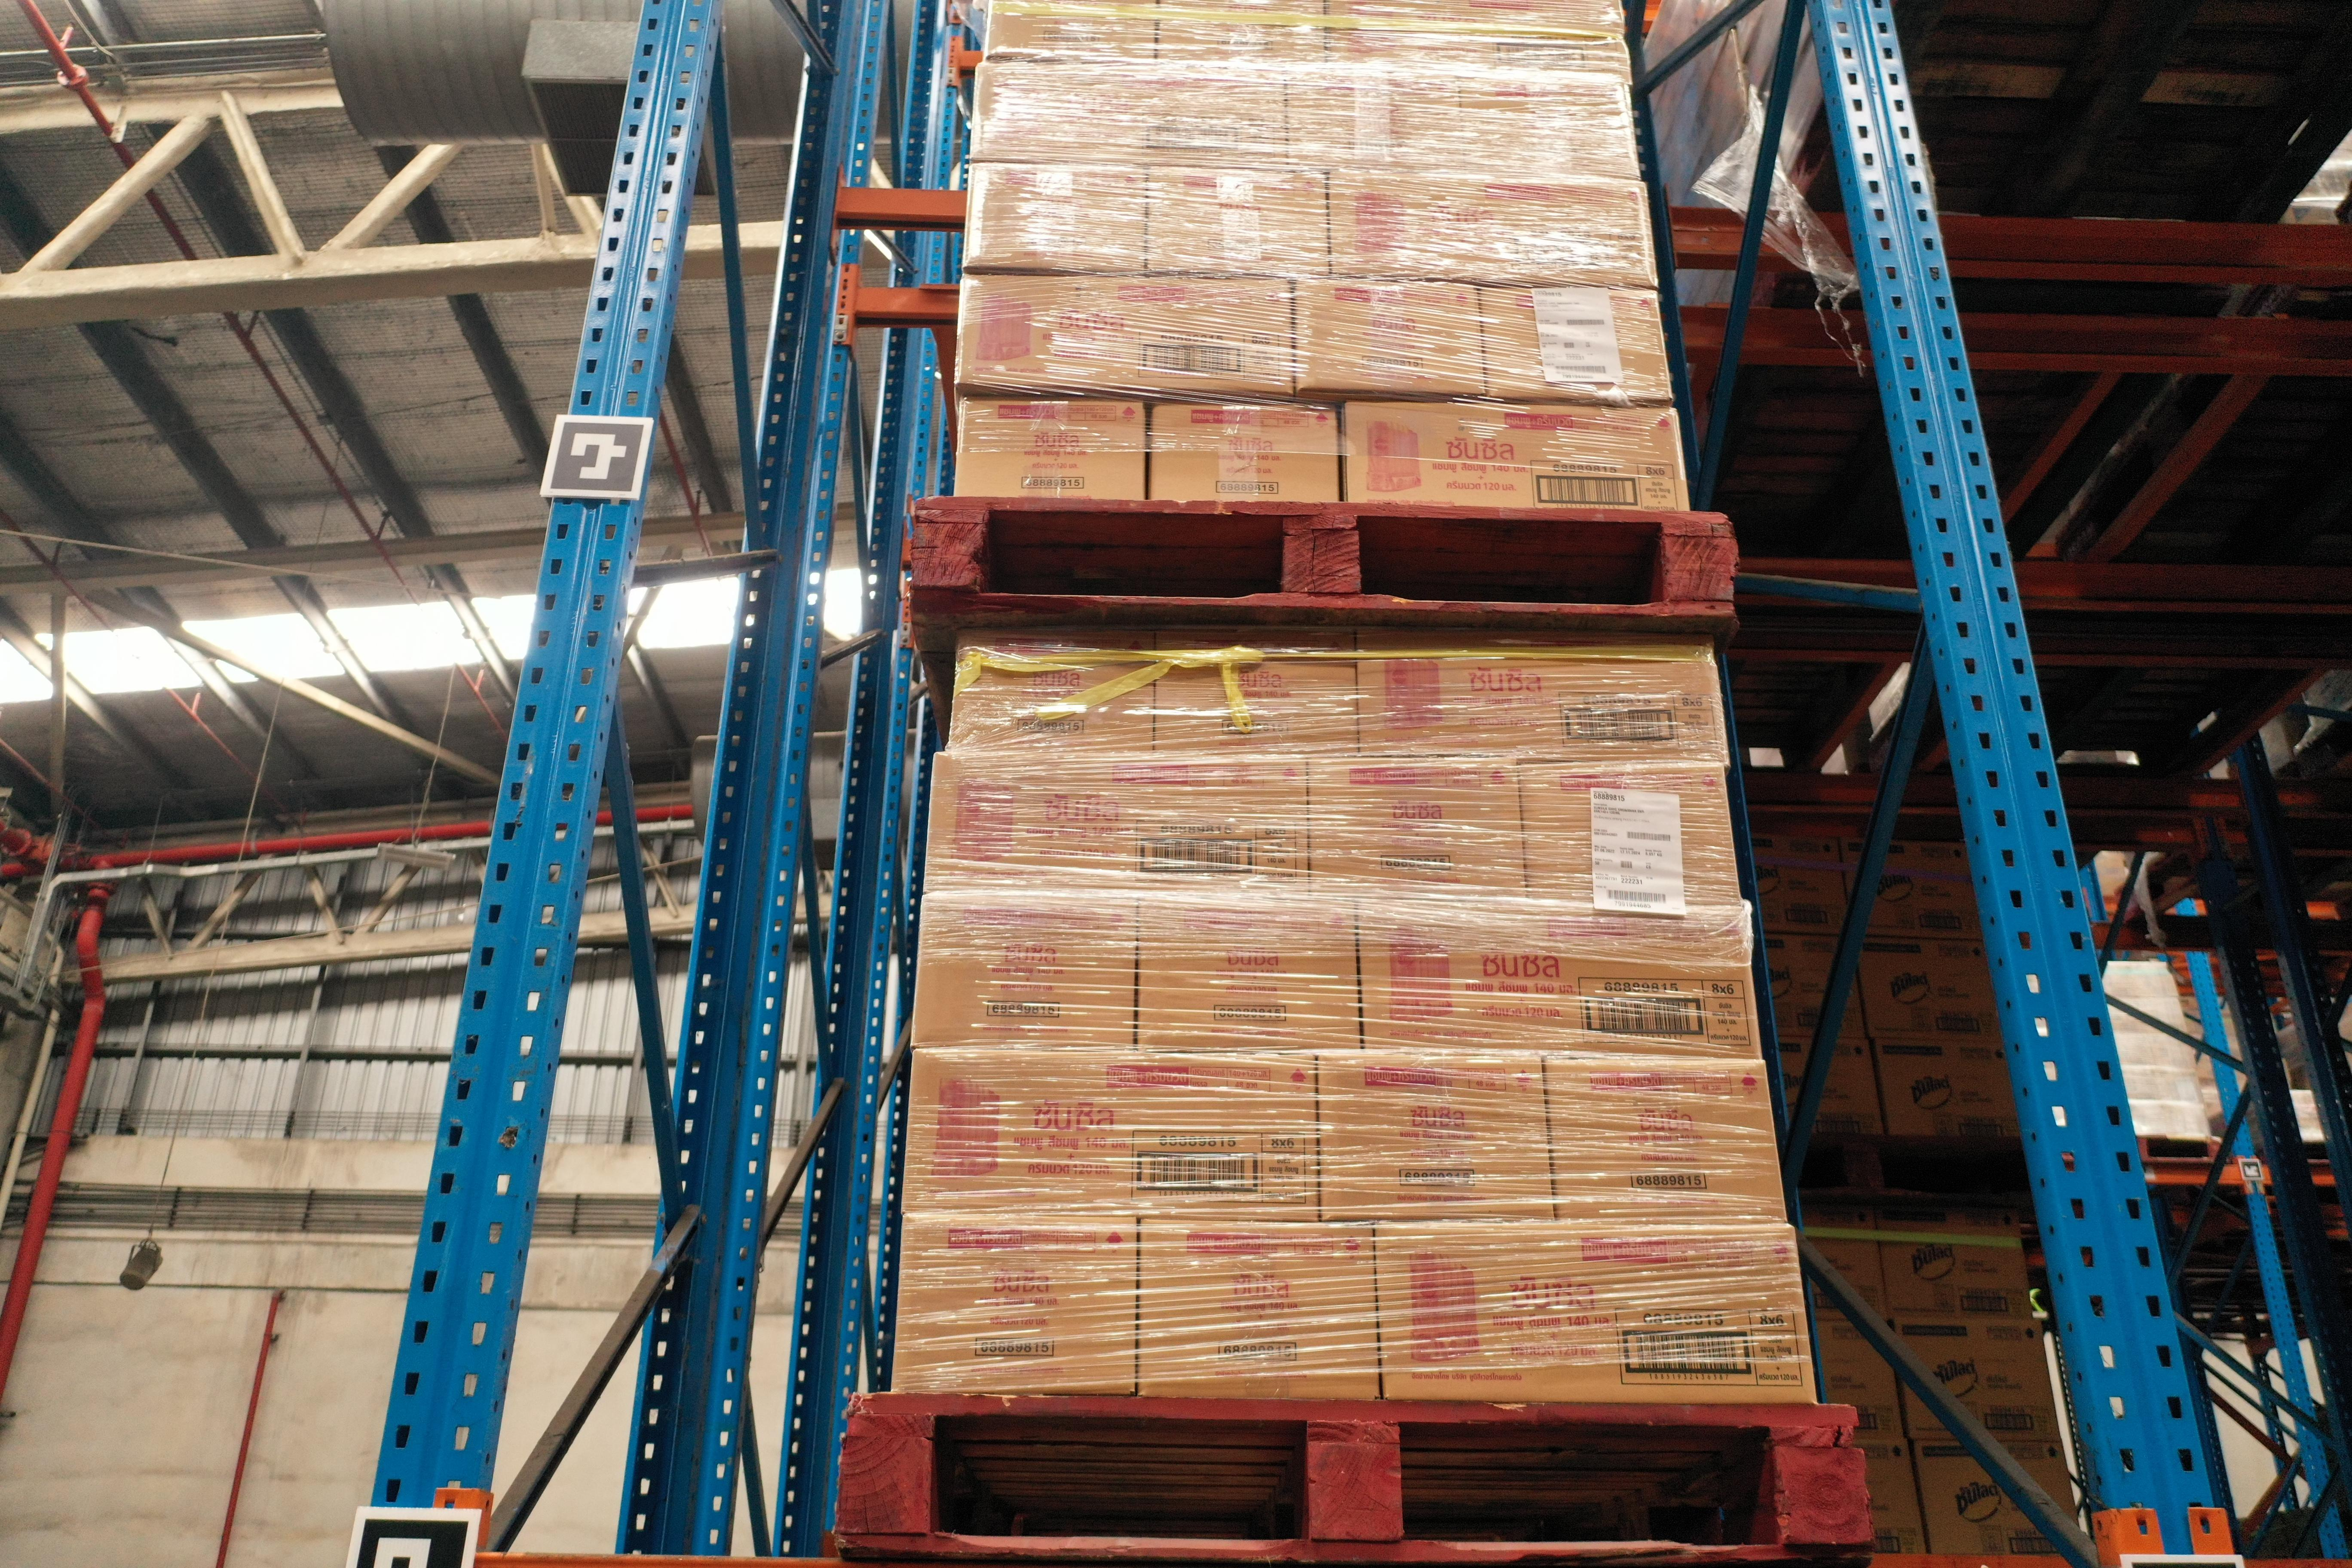-: (1372, 1221, 1816, 1405), (903, 1045, 1319, 1221), (1356, 903, 1762, 1062), (926, 752, 1311, 906), (1354, 630, 1732, 766), (1134, 1213, 1382, 1395), (952, 269, 1297, 399), (894, 1214, 1139, 1395), (1344, 395, 1694, 516), (1543, 1053, 1788, 1225), (1316, 1048, 1556, 1223), (1323, 166, 1659, 289), (969, 56, 1284, 170), (912, 894, 1139, 1052), (1132, 898, 1360, 1053), (1515, 759, 1743, 913), (1307, 759, 1533, 908), (950, 633, 1157, 763), (1151, 639, 1360, 766), (1291, 275, 1486, 397), (1479, 283, 1671, 404), (1143, 159, 1328, 280), (1461, 58, 1640, 180), (961, 161, 1148, 275), (954, 397, 1146, 507), (1283, 56, 1461, 171), (1151, 399, 1340, 506), (980, 0, 1160, 63)
box: (1892, 1314, 2063, 1444), (1871, 1188, 2033, 1318), (1911, 1438, 2082, 1556), (1871, 1036, 2025, 1151), (1853, 934, 2004, 1043), (1839, 840, 1986, 940), (1795, 1185, 1892, 1318), (1776, 1036, 1885, 1143), (1764, 933, 1871, 1038), (1815, 1319, 1906, 1438), (1752, 831, 1853, 934), (1855, 1437, 1928, 1556)
